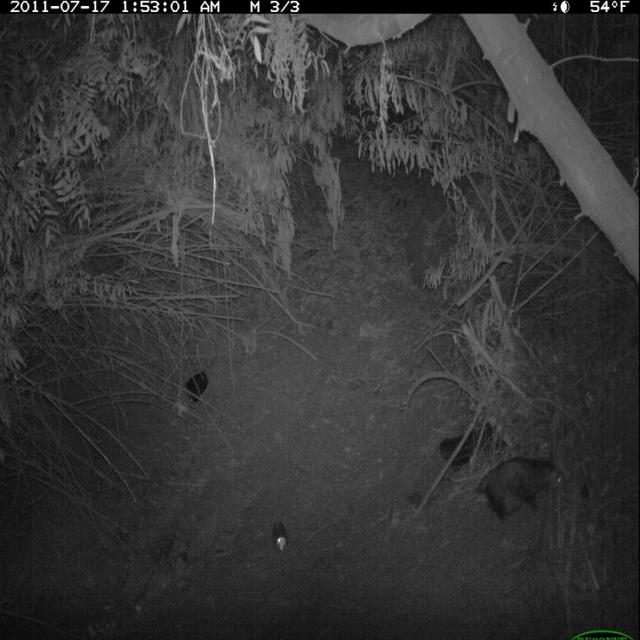opossum: (448, 443, 576, 534)
